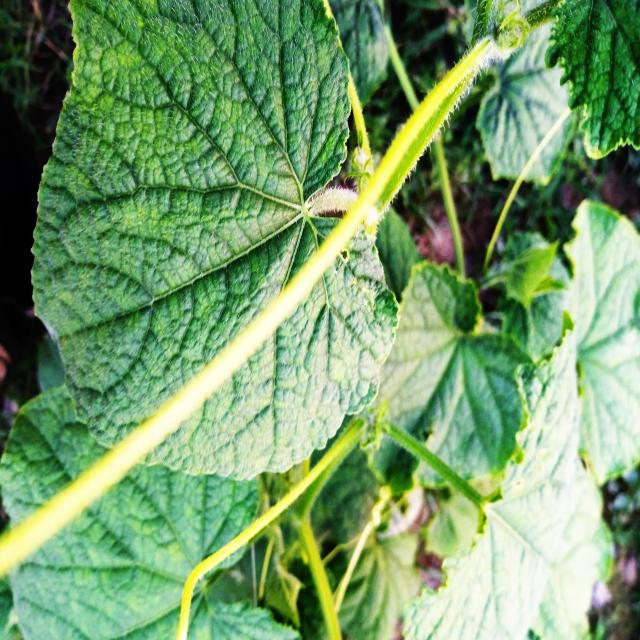Fresh-Leaf: (26, 0, 402, 483), (548, 0, 638, 164)
